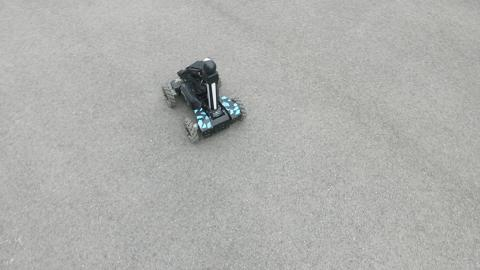chariot: (153, 51, 254, 143)
